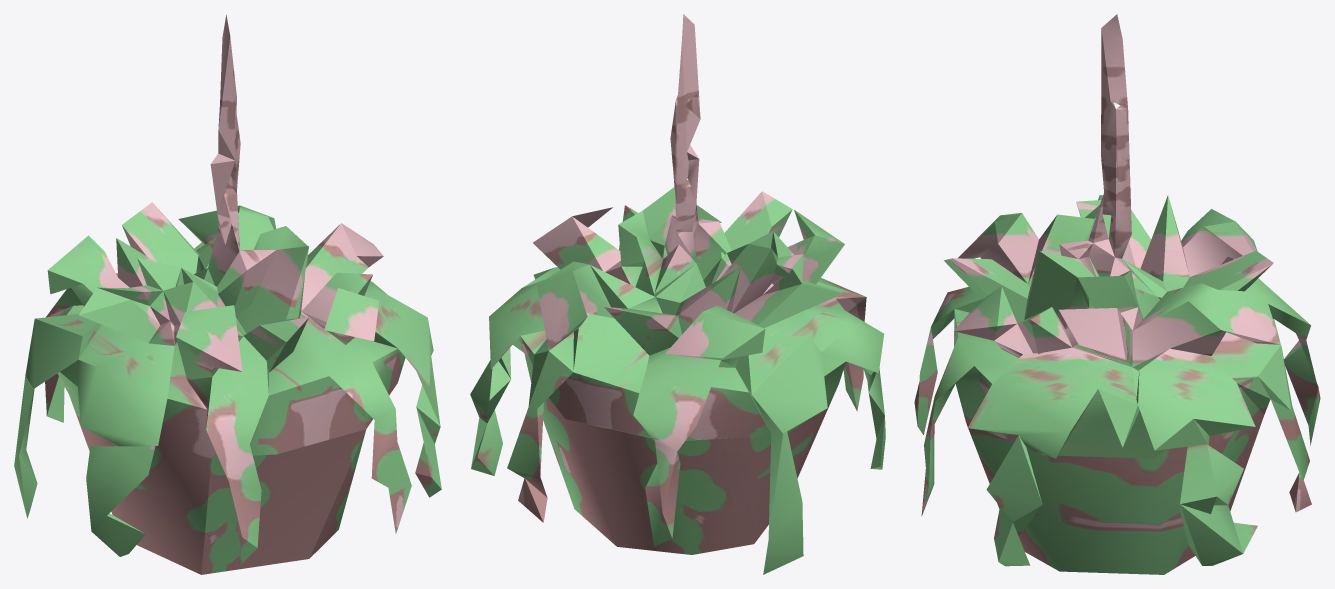
The picture shows the model from 3 angles, left to right: view 1: azimuth 30°, elevation 25°; view 2: azimuth 150°, elevation 25°; view 3: azimuth 270°, elevation 25°; orthographic projection. The views are drawn at different scales.
Parts seen in each view (by area): view 1: Decor_hanging_planter_b; view 2: Decor_hanging_planter_b; view 3: Decor_hanging_planter_b.
Part boxes in pixels (x1,y1,x2,y2): Decor_hanging_planter_b: (14, 15, 441, 574); Decor_hanging_planter_b: (470, 14, 885, 574); Decor_hanging_planter_b: (914, 14, 1320, 574).
Size of the model in its own units: 0.5165 by 0.7143 by 0.507.
1 material, 1 textured.
